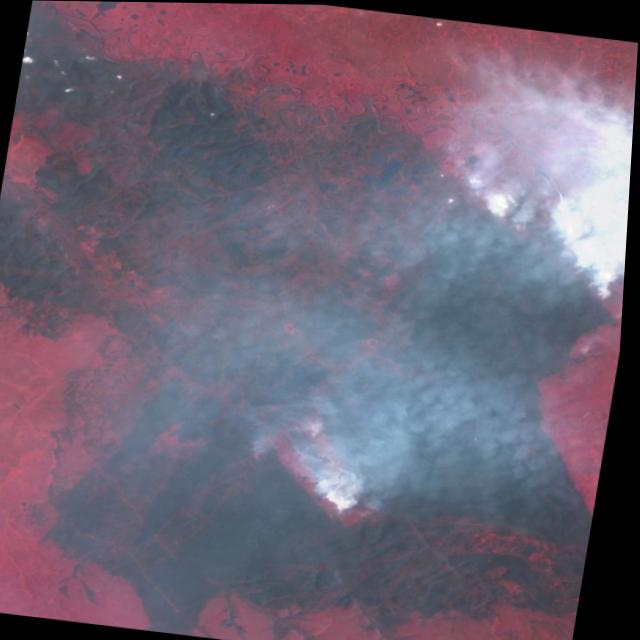fire: (478, 185, 632, 310), (309, 484, 362, 522)
